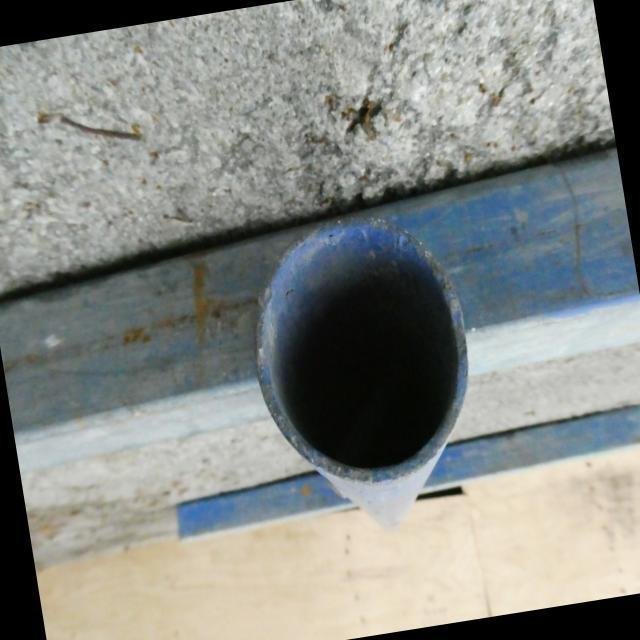pipe: (256, 221, 470, 482)
